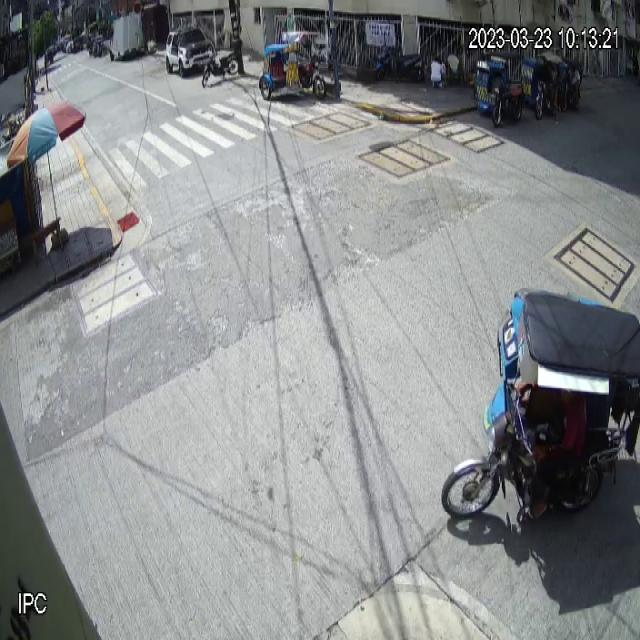Tricycle: (439, 286, 640, 518), (258, 30, 328, 102), (474, 50, 524, 130)
